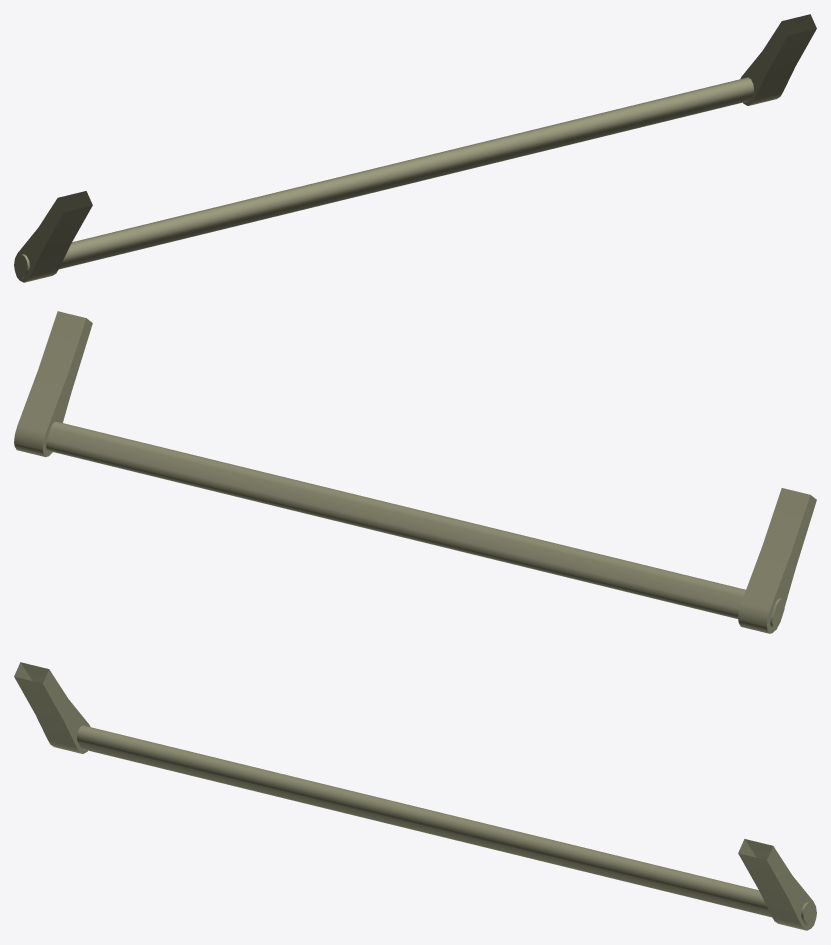
Rendered from Barra P P 2.fbx.
3 views of the same model, one above another, from view 1: azimuth 30°, elevation 25°; view 2: azimuth 150°, elevation 25°; view 3: azimuth 330°, elevation 25° (orthographic).
Visible parts, largest first — view 1: Barra_P_P_2; view 2: Barra_P_P_2; view 3: Barra_P_P_2.
Boxes of the visible parts, x1,y1,x2,y2 form: Barra_P_P_2: [14, 14, 816, 282]; Barra_P_P_2: [14, 311, 816, 633]; Barra_P_P_2: [14, 662, 816, 930].
Size of the model in its own units: 0.66 by 0.092 by 0.0756.
